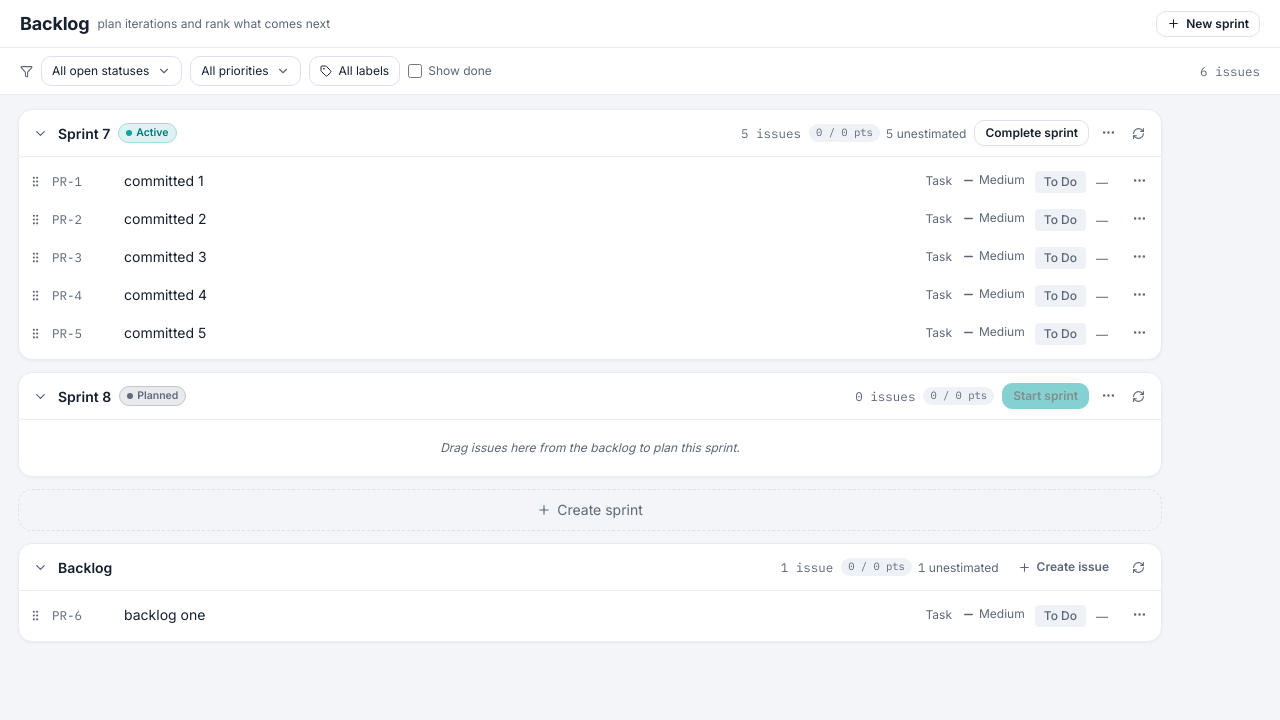
Test: BacklogPage — the sprint dialogs are announced as modal dialogs › names the edit and delete dialogs after their sprint
The width and height of the screenshot is (1280, 720).
Expected: the text "Sprint 7" is shown, x1=58 y1=122 x2=110 y2=144
Click the button named "Actions for Sprint 7": (1108, 132) x1=1097 y1=121 x2=1120 y2=144
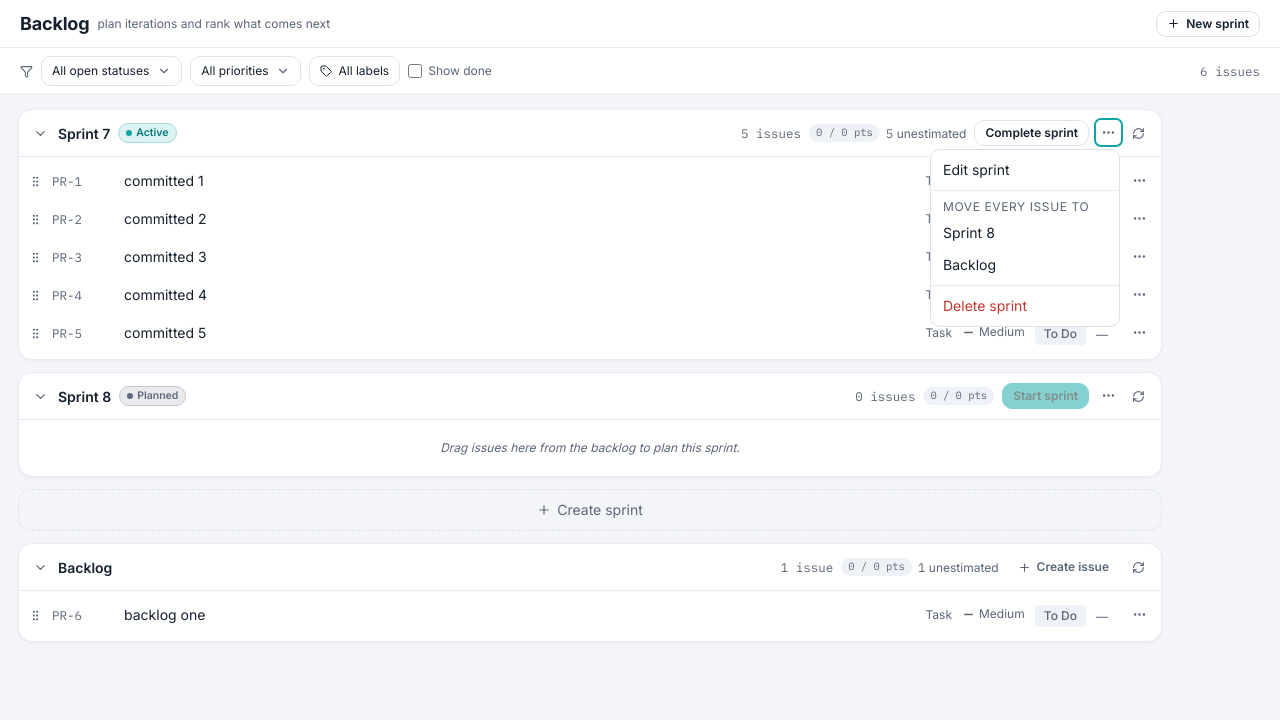
Click the menu item "Edit sprint": (1025, 170) x1=931 y1=154 x2=1119 y2=186
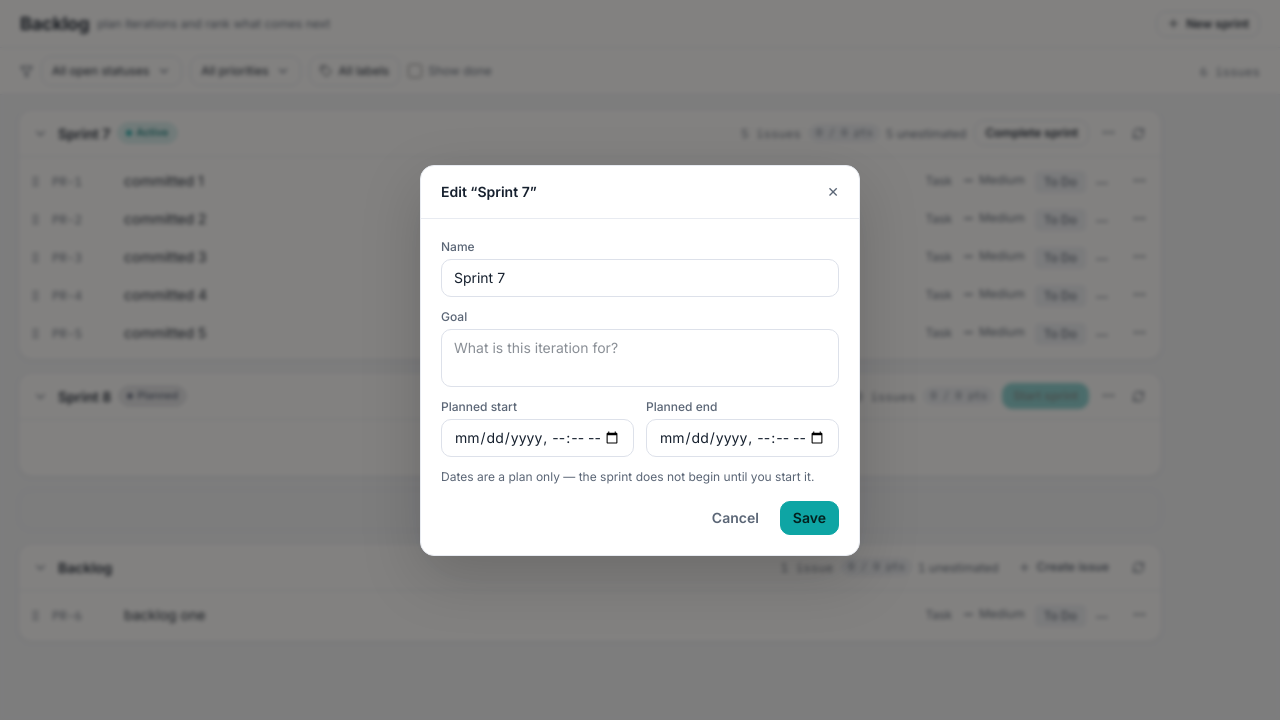
Result: the button "✕" is shown at x1=827 y1=182 x2=839 y2=202
Click the button "Cancel": (735, 518) x1=699 y1=500 x2=772 y2=534
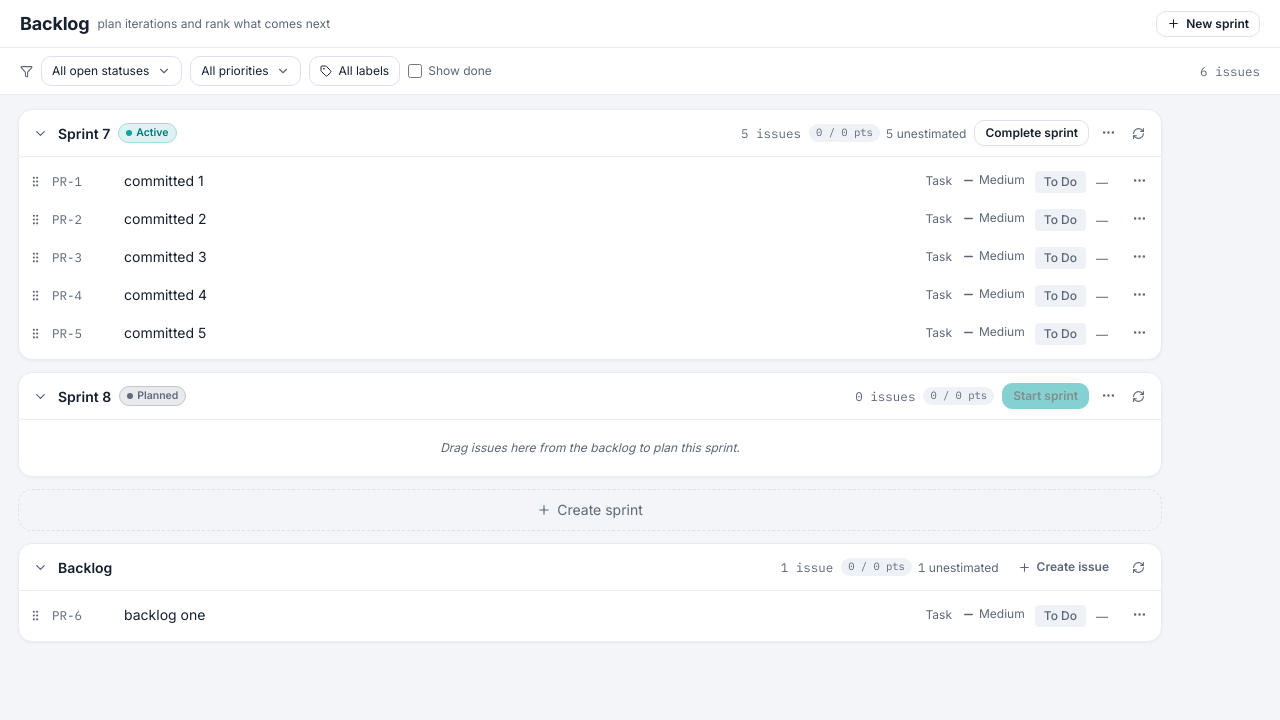
Click the button named "Actions for Sprint 7": (1108, 132) x1=1097 y1=121 x2=1120 y2=144
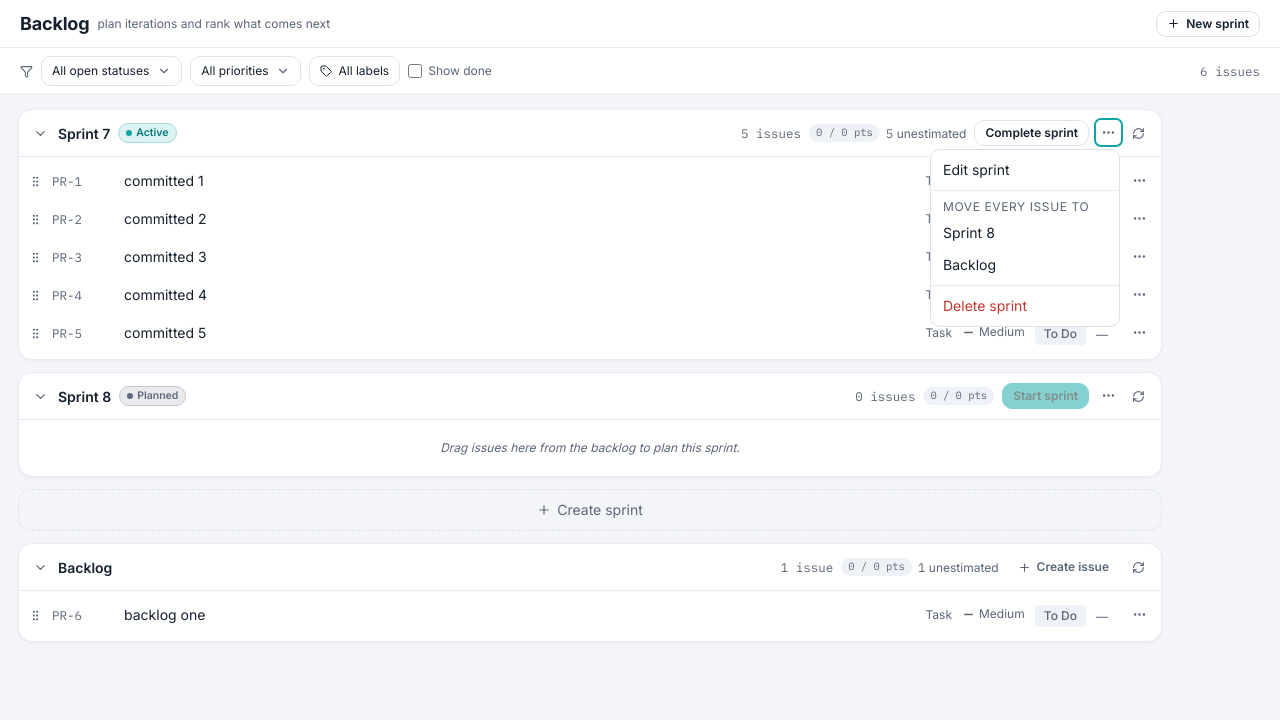
Click the menu item "Delete sprint": (1025, 306) x1=931 y1=290 x2=1119 y2=322
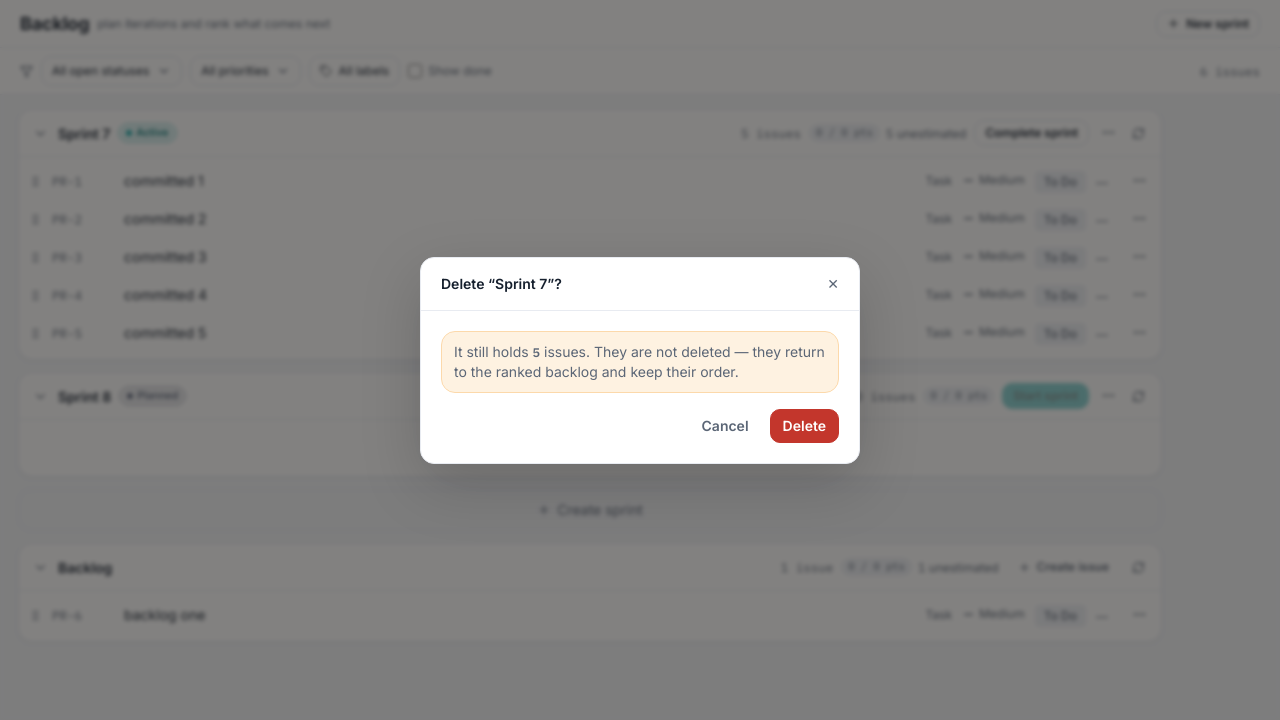
Result: the button "✕" is shown at x1=827 y1=274 x2=839 y2=294
